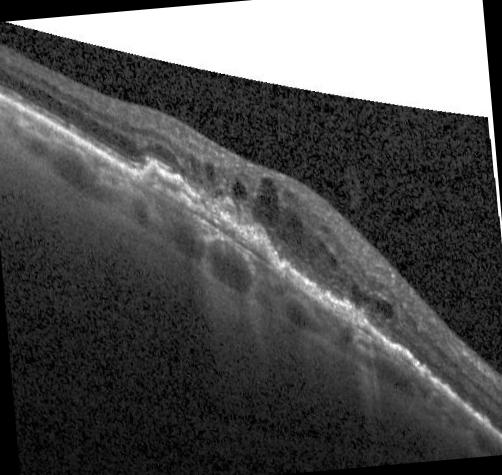intraretinal_cyst: (251, 176, 279, 227), (277, 204, 302, 248), (350, 283, 369, 307), (375, 297, 393, 318), (232, 180, 247, 199), (204, 165, 215, 180), (328, 254, 337, 269), (283, 188, 294, 198), (190, 156, 196, 171), (213, 189, 222, 198)
subretinal_hyperreflective_material: (135, 161, 431, 376)
